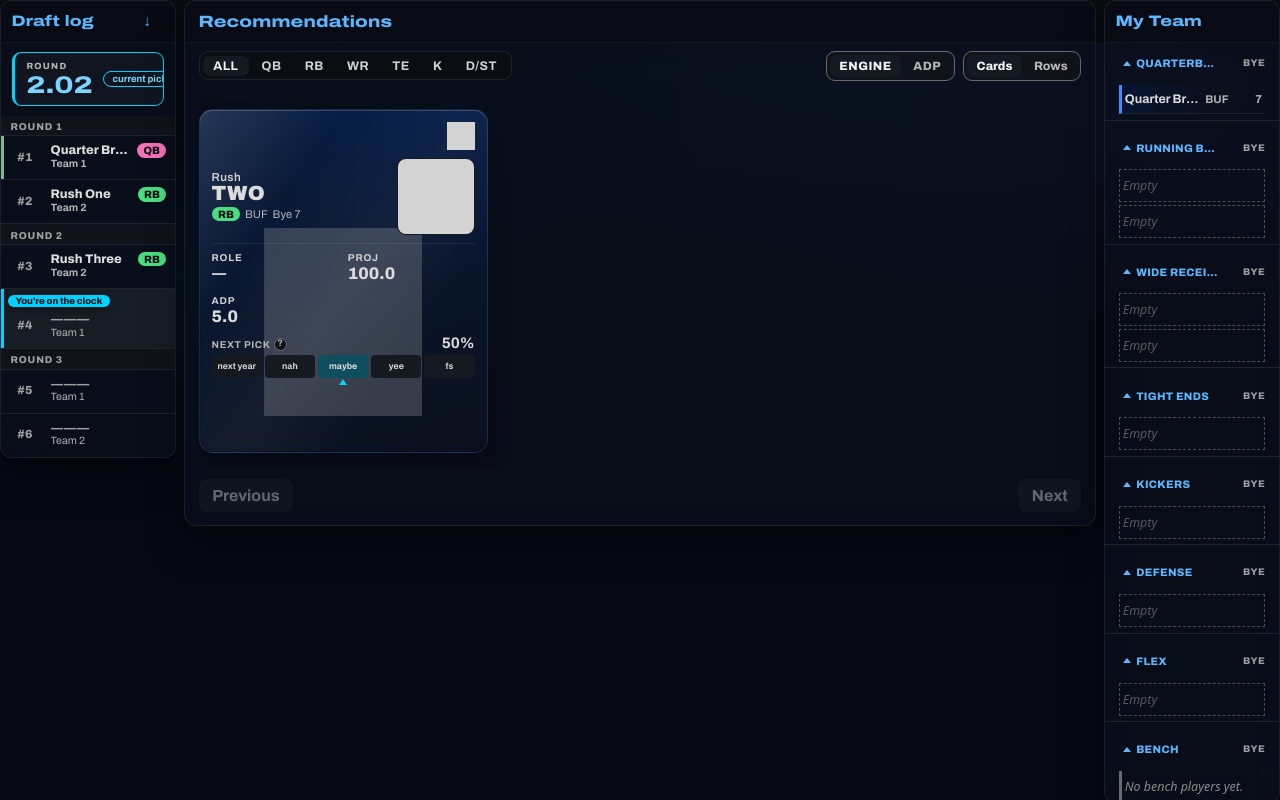
Scenario: DraftWorkspace QB gating (1-QB leagues, display-only) › hides a redundant QB from the Engine All board once the starting QB slot is filled, but keeps it on the QB tab
Expected: the text "Two" is shown, [212, 182, 265, 204]
Expected: the text "Mahomes" is not shown
Step 1. Click the tab "QB" → x=272, y=66, box [251, 56, 292, 76]
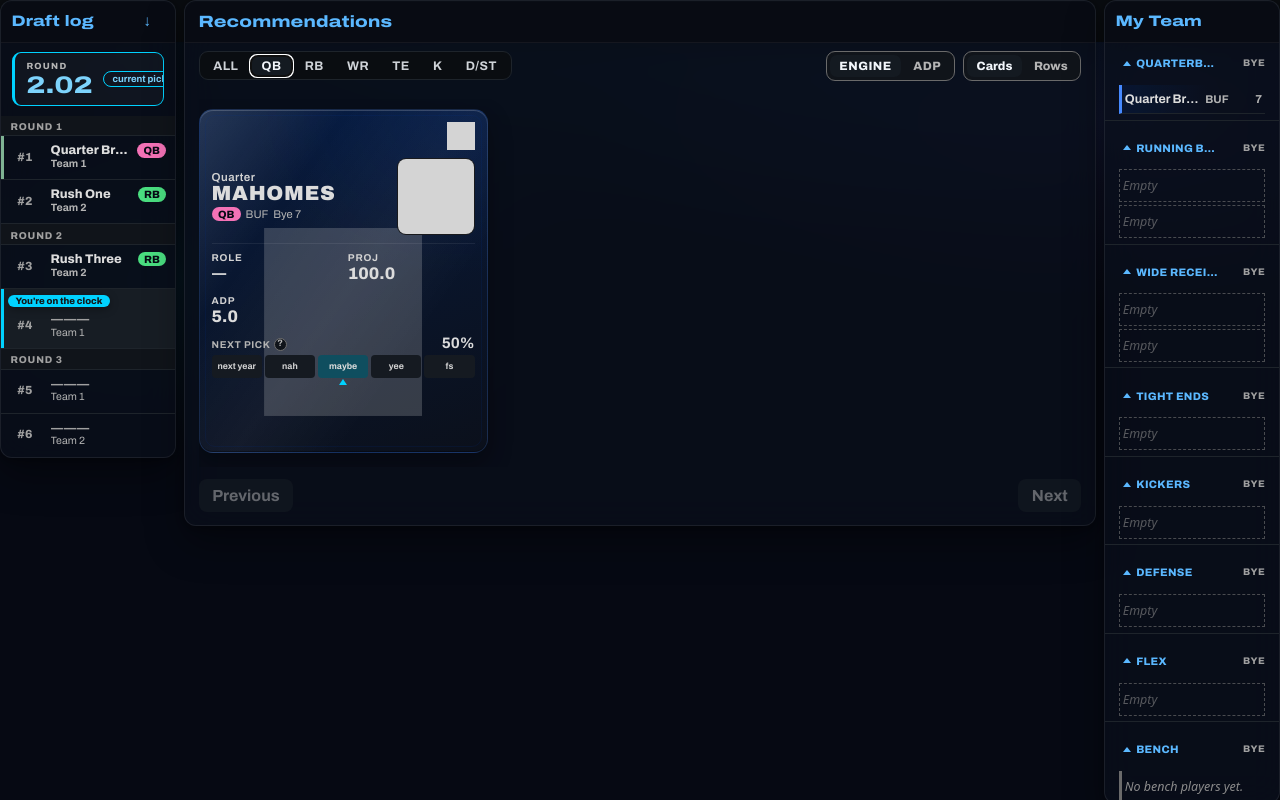
Result: the text "Mahomes" is shown at [212, 182, 335, 204]
